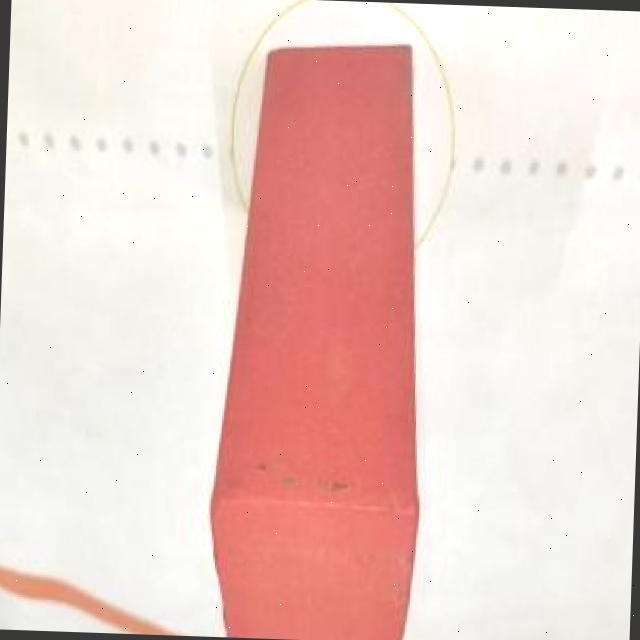redbox: (206, 35, 437, 640)
